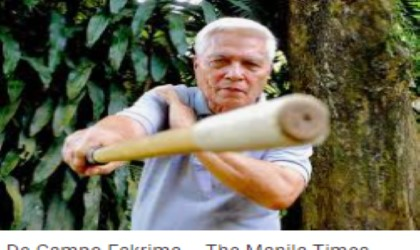baston_e: (96, 95, 276, 185)
baston_v: (237, 83, 366, 154)
